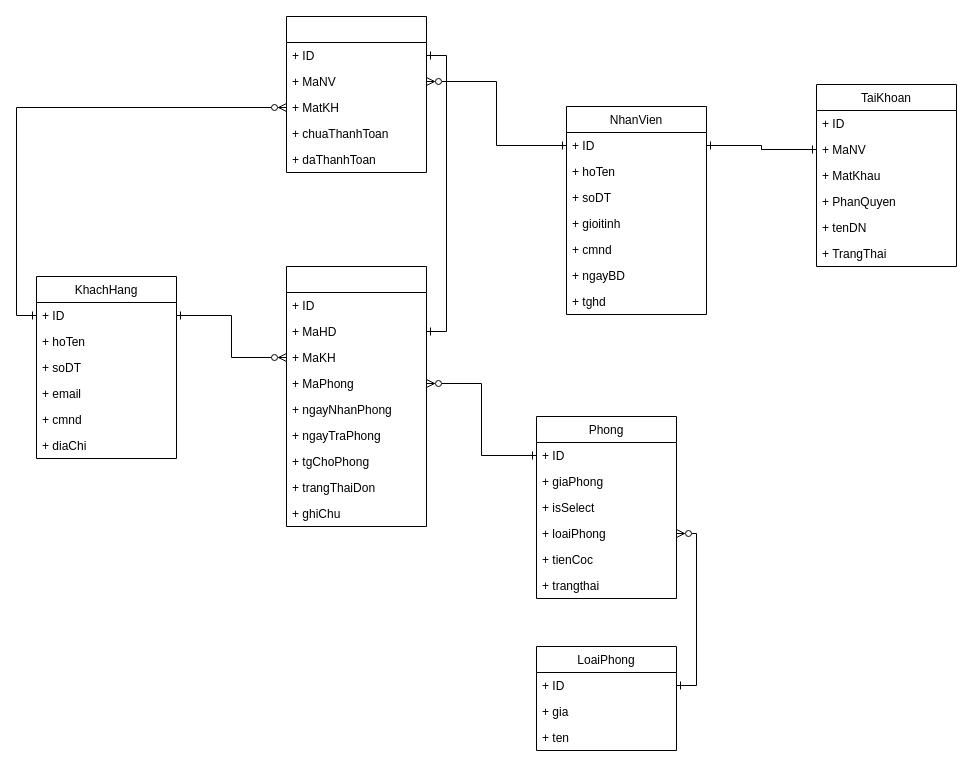
Image size: 973x767. Some labels were removed from this diagram. The shapes that lost their labels are listed below. From the top down, each one's box as (x1, y1, x2, y2) in pixels, then its label:
(286, 16, 426, 172): HoaDon
(286, 266, 426, 526): ĐangKi
